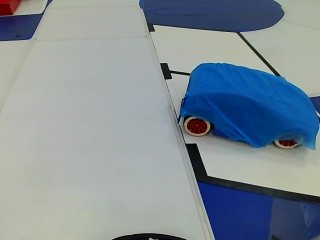car: (172, 63, 318, 149)
